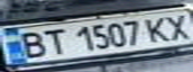0: (106, 20, 127, 48)
1: (69, 22, 93, 52)
5: (90, 21, 112, 51)
7: (121, 17, 145, 46)
B: (12, 29, 51, 60)
K: (139, 14, 175, 44)
T: (33, 26, 69, 56)
X: (160, 10, 193, 42)
